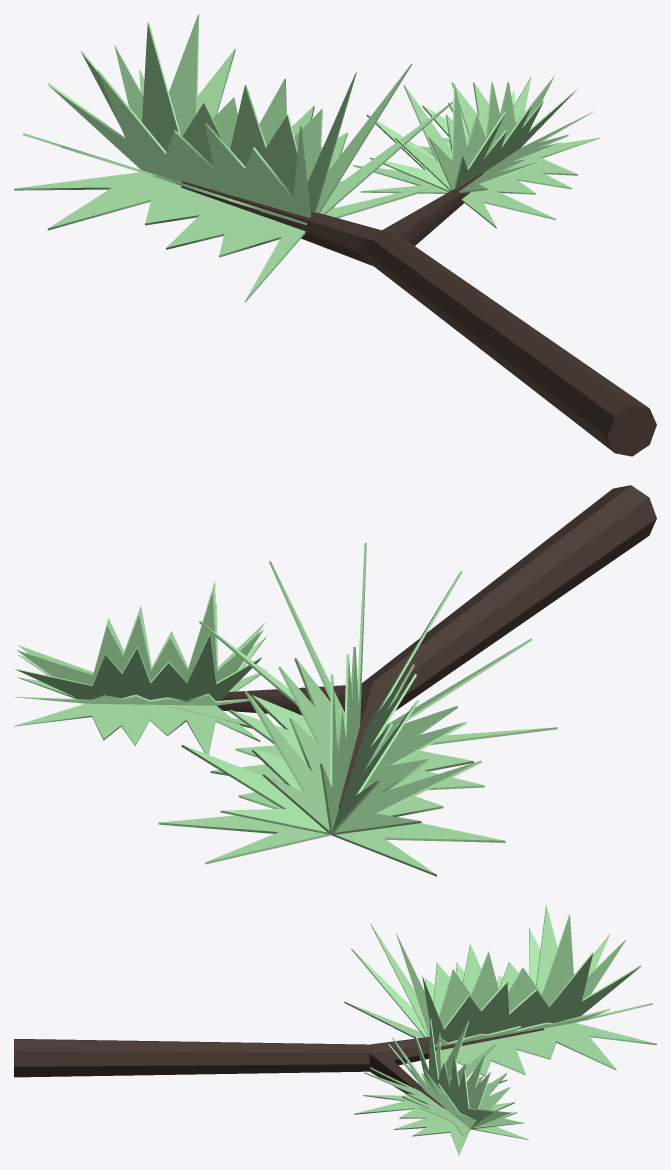
Rendered from tree3_fallen.fbx.
3 views of the same model, one above another, from view 1: azimuth 30°, elevation 25°; view 2: azimuth 150°, elevation 25°; view 3: azimuth 270°, elevation 25° (orthographic). The views are drawn at different scales.
Visible parts, largest first — view 1: polySurface48; view 2: polySurface48; view 3: polySurface48.
Boxes of the visible parts, left/top/right/bottom form: polySurface48: left=14, top=14, right=656, bottom=456; polySurface48: left=14, top=485, right=656, bottom=876; polySurface48: left=14, top=905, right=656, bottom=1155.
Size of the model in its own units: 897 by 325 by 1359.
